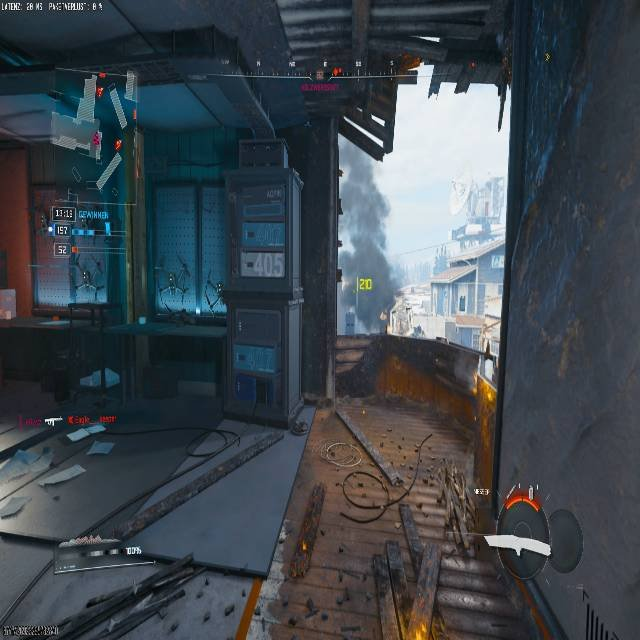player: (412, 324, 424, 338)
